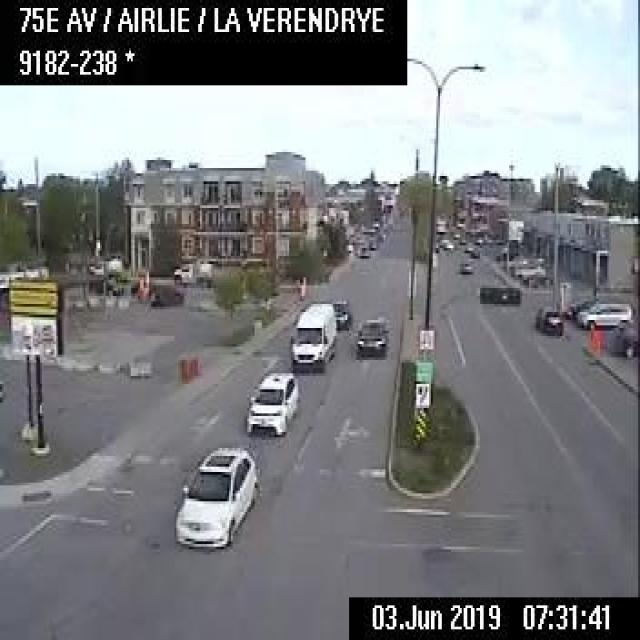construction: (588, 322, 602, 355), (178, 353, 188, 383), (192, 351, 201, 376)
vehicle: (173, 442, 256, 546), (288, 298, 337, 368), (246, 368, 294, 435), (353, 315, 387, 357), (578, 300, 632, 326), (606, 317, 637, 356), (532, 302, 564, 334), (174, 258, 212, 282), (330, 298, 348, 329), (513, 260, 545, 276), (457, 257, 473, 272), (355, 241, 370, 256), (436, 235, 453, 248), (468, 245, 478, 256)
